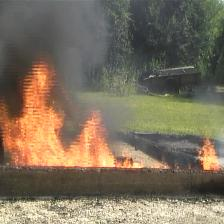fire: (0, 57, 145, 167), (197, 137, 224, 169)
